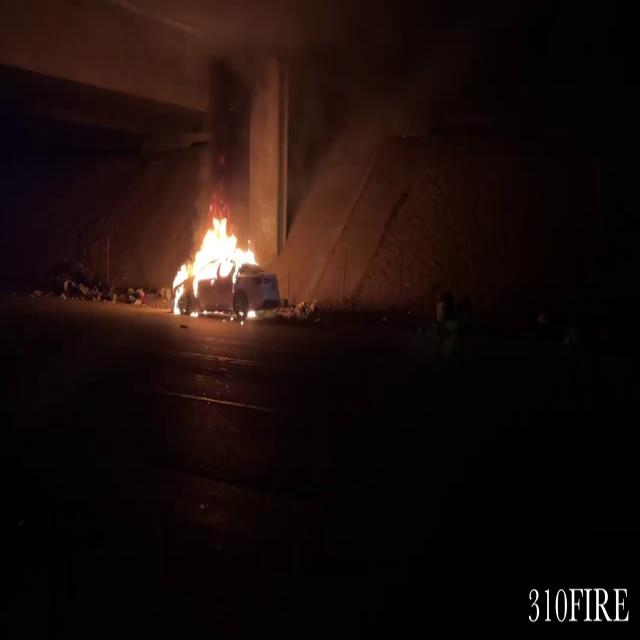Fire: (166, 206, 266, 316)
